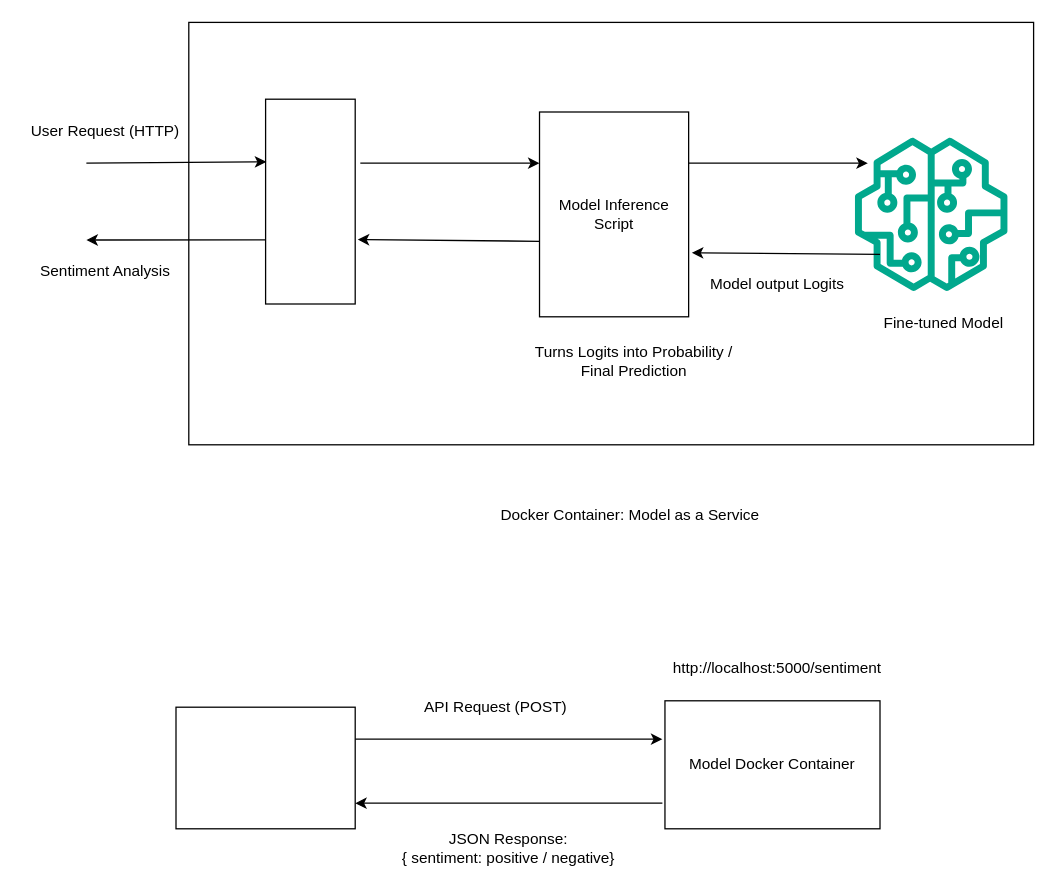
Image size: 1056x890. Some labels were removed from this diagram. The centre of each missing label's shape, as x and y in pixels:
"Flask API" goes at (x=309, y=201).
"Gradio UI" goes at (x=265, y=767).
